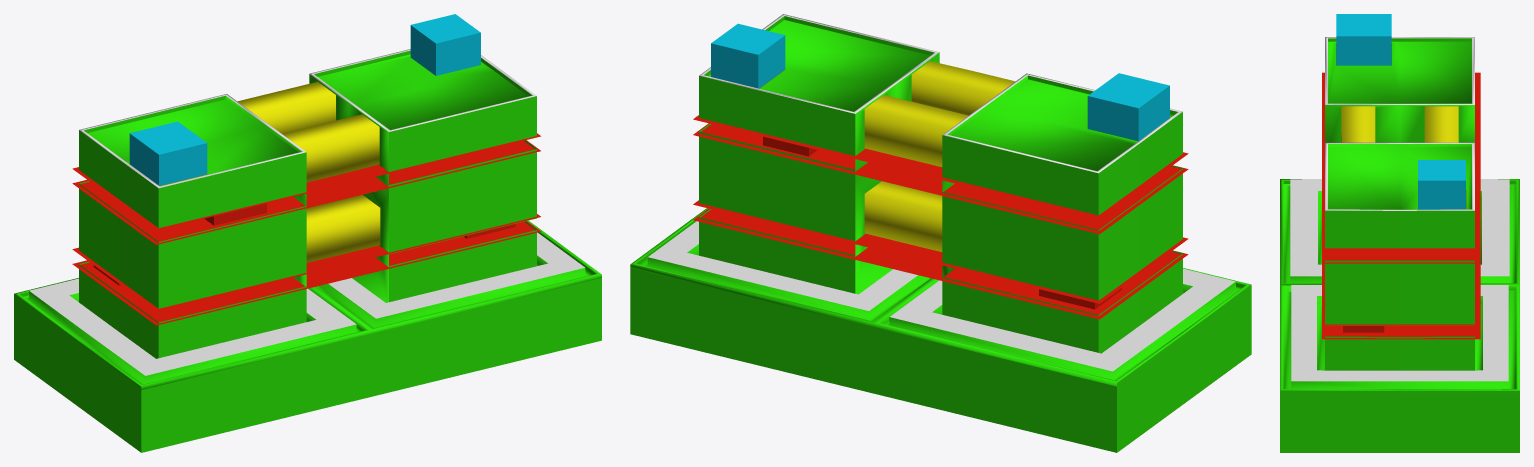
Rendered from TownABuildingInterior1.fbx.
3 renders of one model, left to right at view 1: azimuth 30°, elevation 25°; view 2: azimuth 150°, elevation 25°; view 3: azimuth 270°, elevation 25°, orthographic. The views are drawn at different scales.
Parts seen in each view (by area): view 1: Cube; view 2: Cube; view 3: Cube.
Boxes of the visible parts, box(x1,y1,x2,y2) form: Cube: box(14, 14, 601, 452); Cube: box(630, 14, 1251, 452); Cube: box(1280, 14, 1519, 452).
Bounding box in the file's own units: 13113 × 7254 × 6274.
